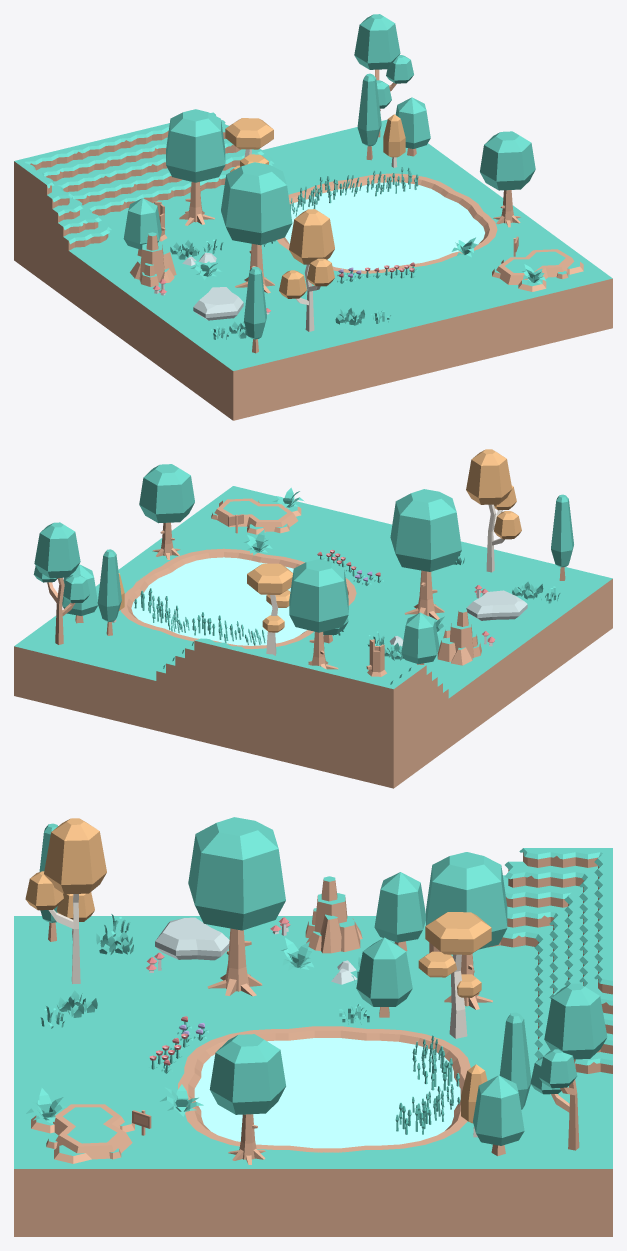
Rendered from parkscene2.glb.
3 renders of one model, top to bottom at view 1: azimuth 30°, elevation 25°; view 2: azimuth 150°, elevation 25°; view 3: azimuth 270°, elevation 25°, orthographic. The views are drawn at different scales.
Parts seen in each view (by area): view 1: mushroom_redGroup.002; view 2: mushroom_redGroup.002; view 3: mushroom_redGroup.002.
Boxes of the visible parts, box(x1,y1,x2,y2) form: mushroom_redGroup.002: box(14, 14, 612, 420); mushroom_redGroup.002: box(14, 449, 612, 788); mushroom_redGroup.002: box(14, 817, 612, 1236).
Size of the model in its own units: 8.06 by 3.39 by 8.
